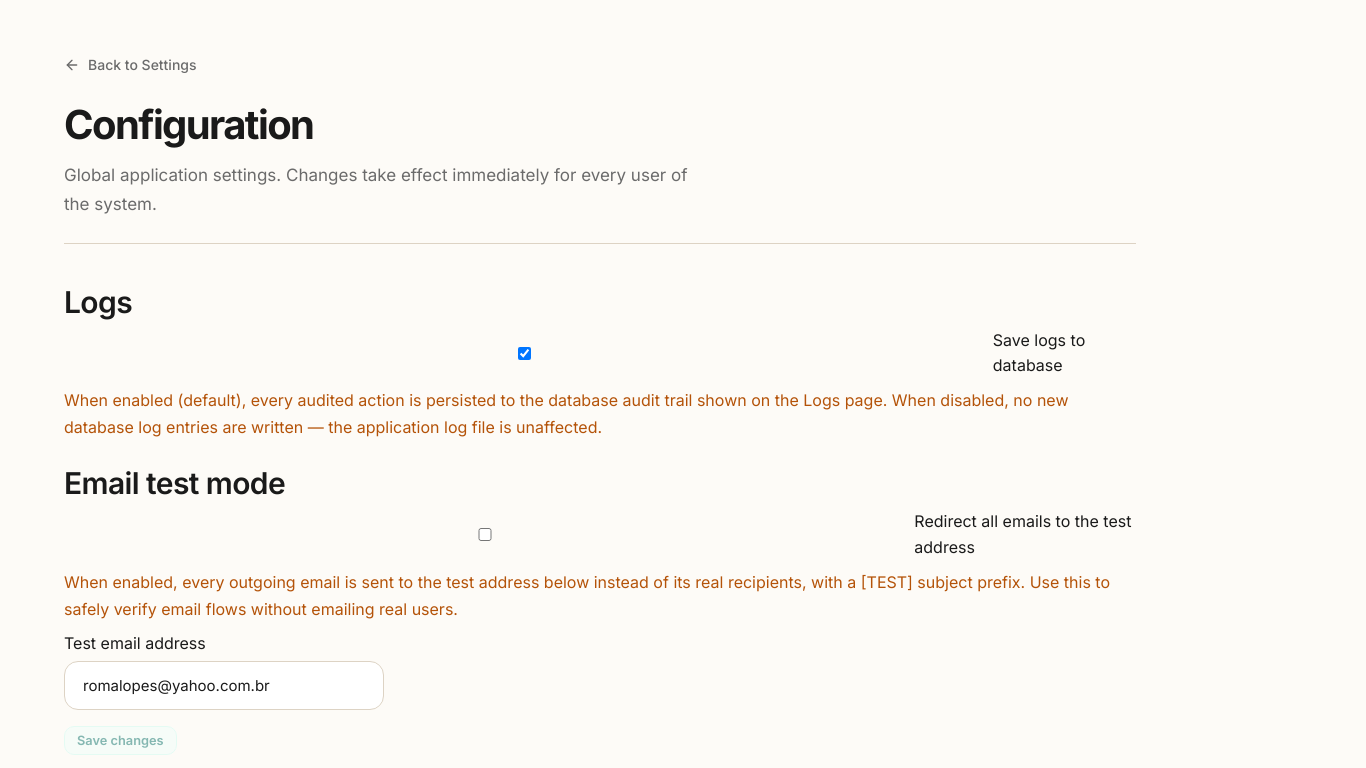
Test: ConfigurationSettings page › saves changed settings
Click the checkbox labelled "Redirect all emails to the test address": click(485, 535) [64,528,906,541]
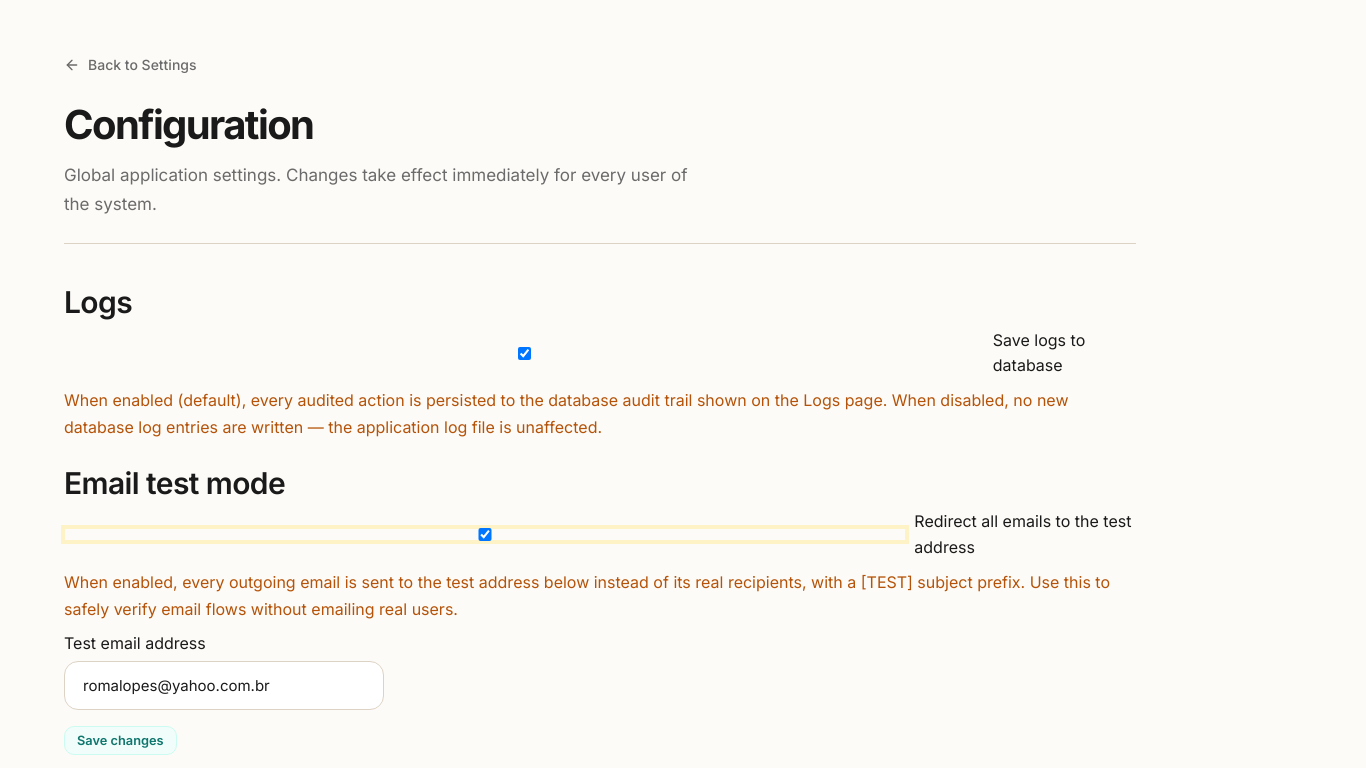
Result: the checkbox labelled "Redirect all emails to the test address" is checked at [64,528,906,541]
Result: the button "Save changes" is enabled
Click the button "Save changes": click(120, 740) [64,726,177,754]
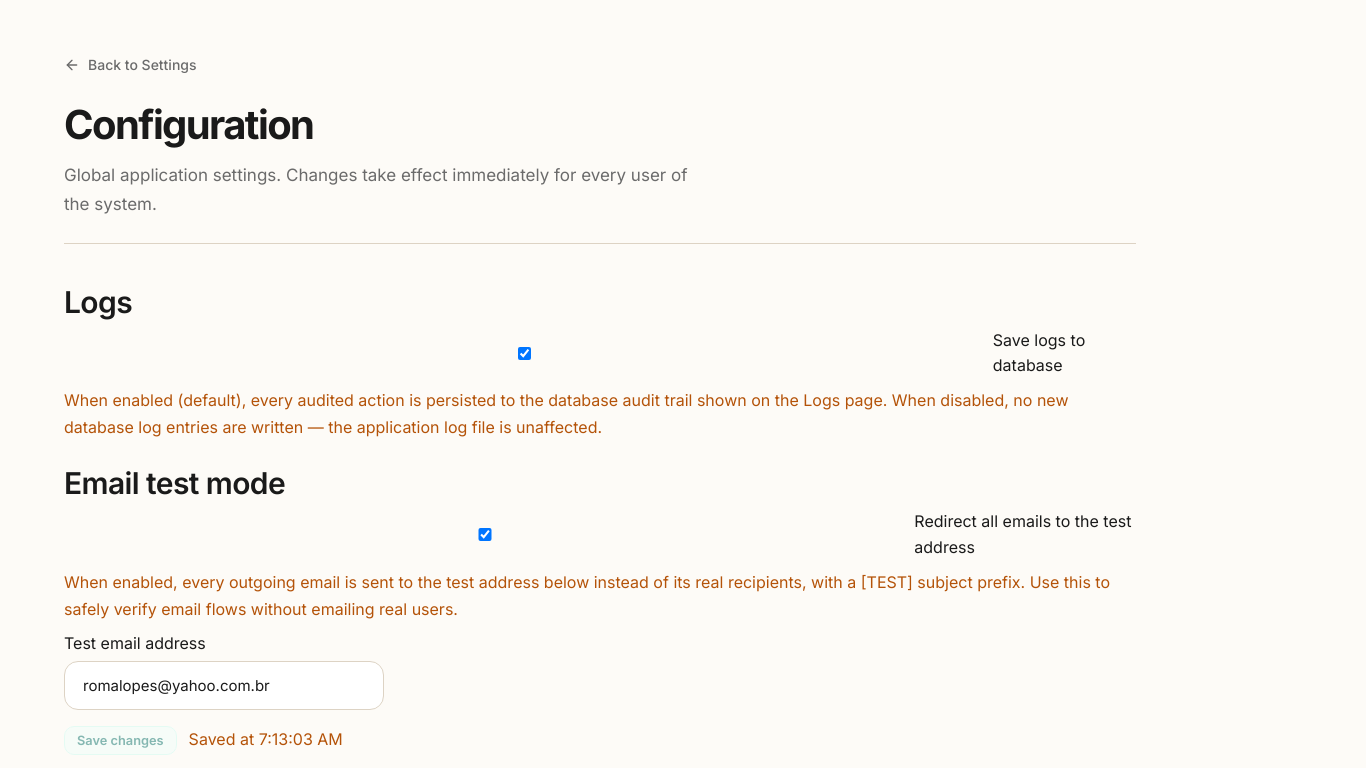
Result: the text "Saved at 7:13:03 AM" is shown at [189,727,343,753]
